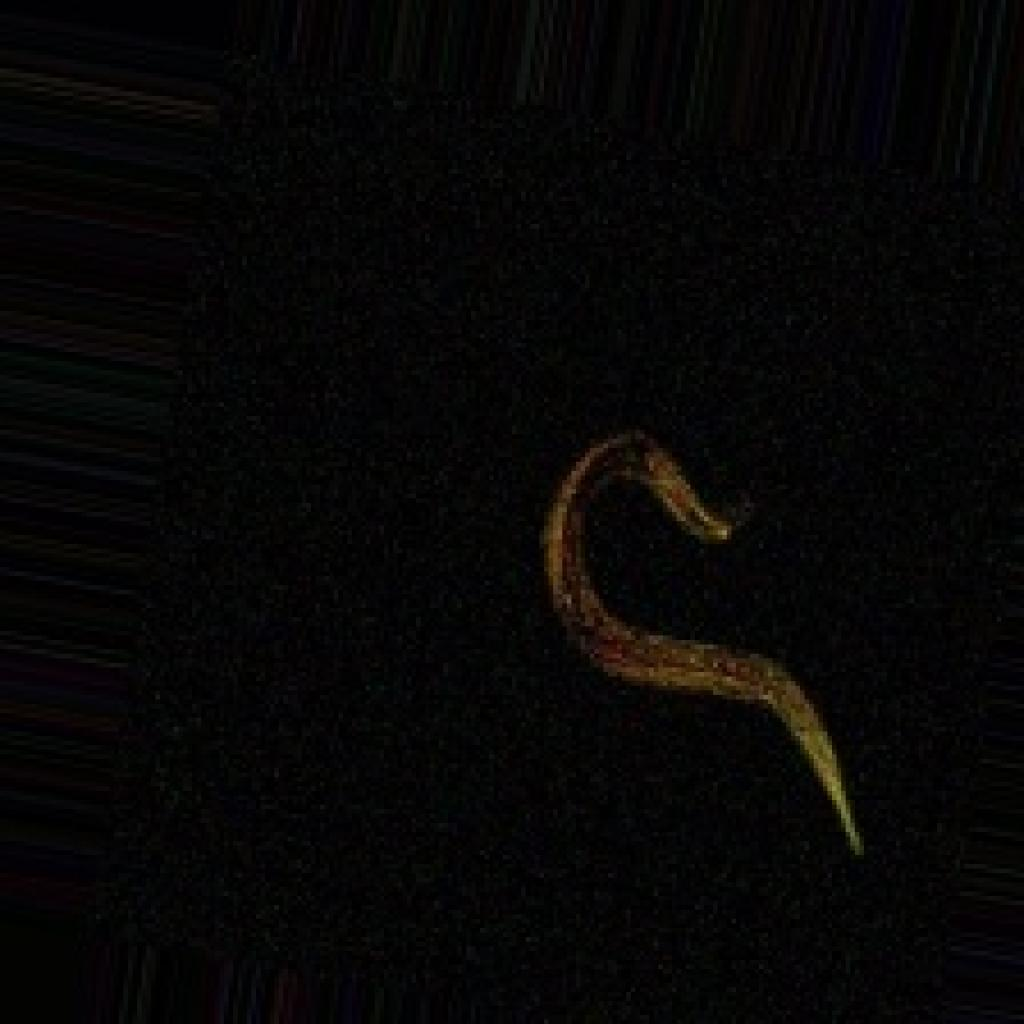Nematode: (78, 60, 1019, 1020), (535, 420, 868, 860)
